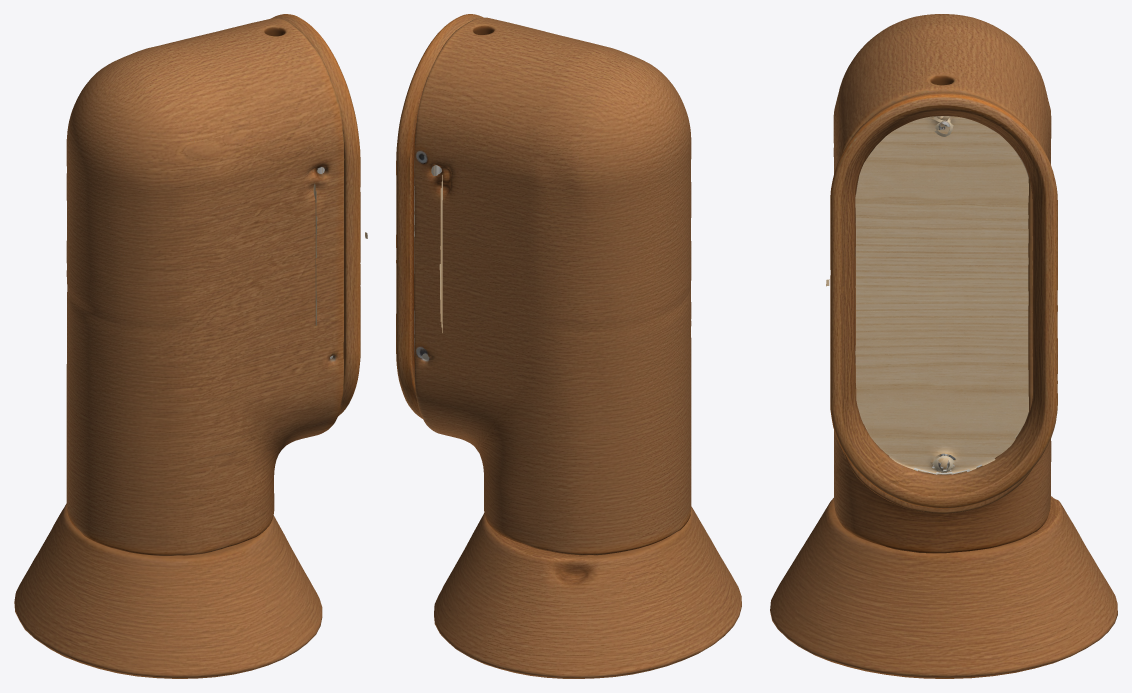
The model's file is kultist.glb.
3 renders of one model, left to right at view 1: azimuth 30°, elevation 25°; view 2: azimuth 150°, elevation 25°; view 3: azimuth 270°, elevation 25°, orthographic. The views are drawn at different scales.
Parts seen in each view (by area): view 1: tripo_part_0, tripo_part_1, Oval_Frame_Face; view 2: tripo_part_0, tripo_part_1, Oval_Frame_Face; view 3: Oval_Lens, tripo_part_1, tripo_part_0, Oval_Frame_Face.
Boxes of the visible parts, left/top/right/bottom form: tripo_part_0: left=66, top=18, right=344, bottom=555; tripo_part_1: left=14, top=503, right=322, bottom=678; Oval_Frame_Face: left=271, top=14, right=360, bottom=415; tripo_part_0: left=414, top=17, right=691, bottom=555; tripo_part_1: left=434, top=506, right=741, bottom=678; Oval_Frame_Face: left=396, top=14, right=483, bottom=418; Oval_Lens: left=826, top=116, right=1028, bottom=473; tripo_part_1: left=770, top=496, right=1117, bottom=678; tripo_part_0: left=833, top=14, right=1051, bottom=553; Oval_Frame_Face: left=830, top=92, right=1057, bottom=508.
Size of the model in its own units: 0.1969 by 0.3887 by 0.2051.
17 materials, 17 textured.
